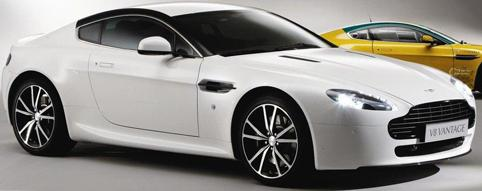front_view: (305, 81, 480, 170)
headlight: (324, 85, 397, 118)
side_glass: (77, 18, 198, 62)
